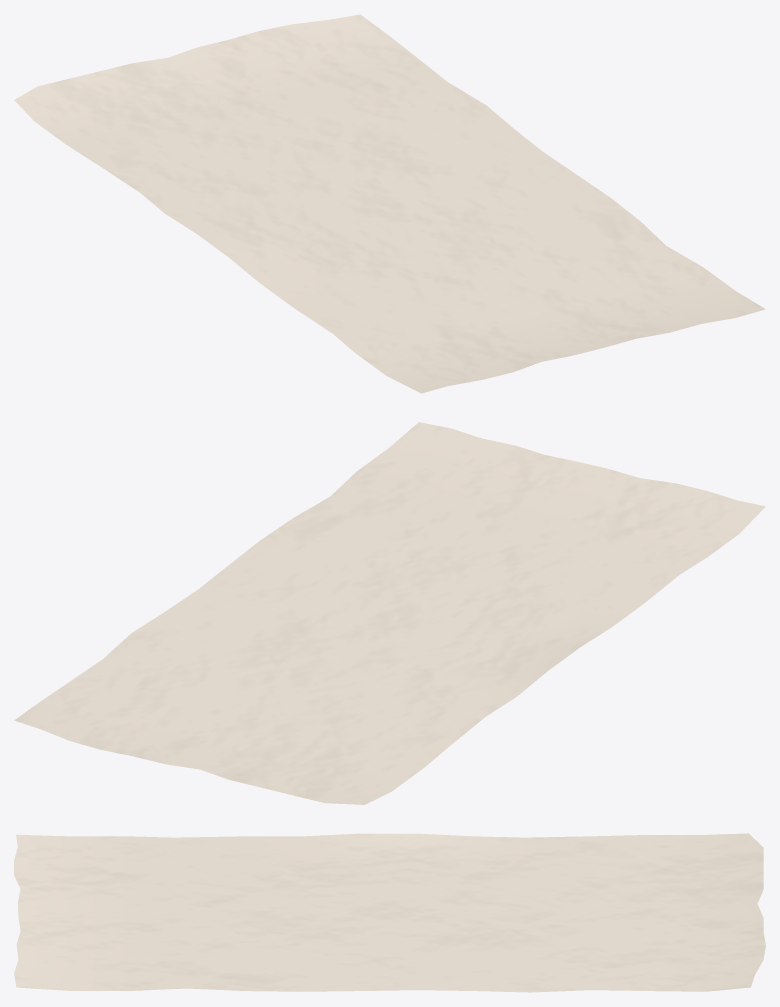
File: paper.fbx
3 renders of one model, top to bottom at view 1: azimuth 30°, elevation 25°; view 2: azimuth 150°, elevation 25°; view 3: azimuth 270°, elevation 25°, orthographic. The views are drawn at different scales.
Visible parts, largest first — view 1: Cube.001; view 2: Cube.001; view 3: Cube.001.
Boxes of the visible parts, <box> form: Cube.001: <box>14,14,765,393</box>; Cube.001: <box>14,422,765,804</box>; Cube.001: <box>14,833,765,992</box>.
Bounding box in the file's own units: 185 × 374 × 1.91.
1 material, 1 textured.
